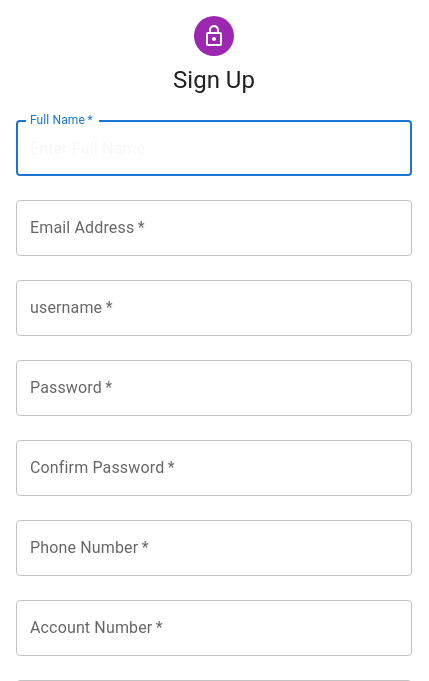
Test: SignUpPage component › displays error for invalid email format
Type "invalidemail" into the field with placeholder "Enter Email Address". click: (214, 228)
box: [16,200,412,256]
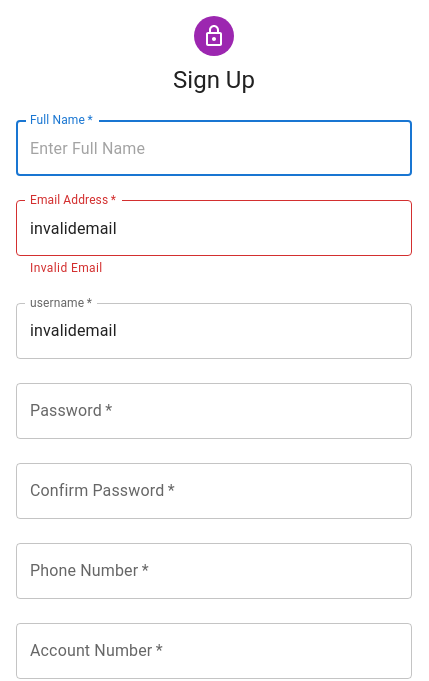
Expected: the text "Invalid Email" is shown, [30,261,103,275]
